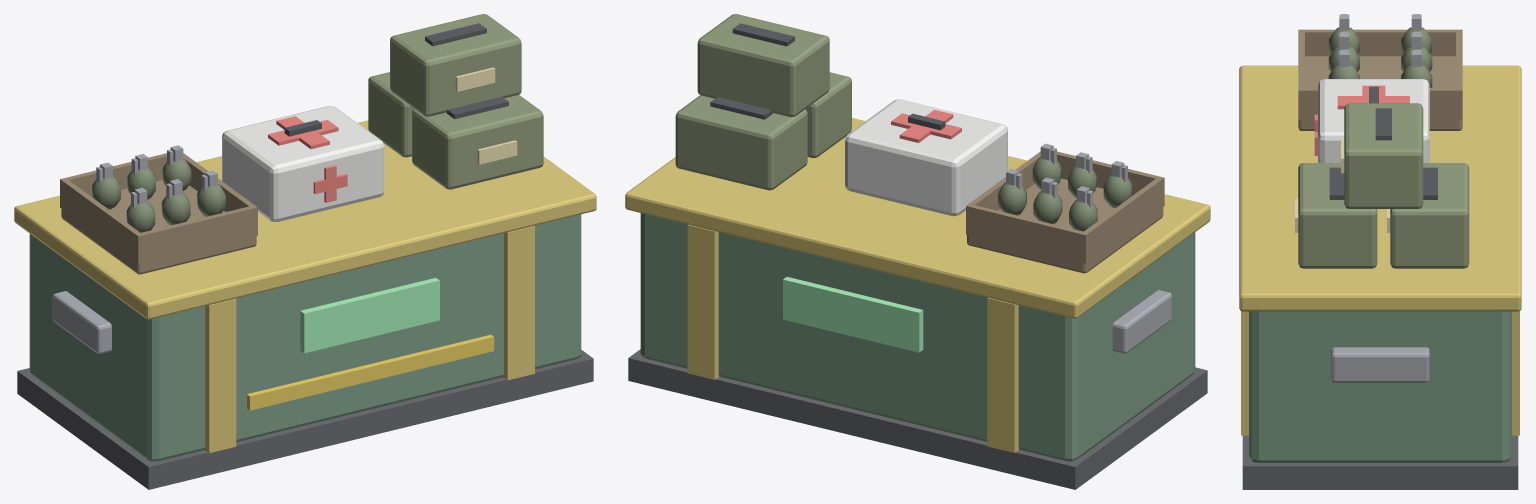
Rendered from supply_cache.fbx.
3 renders of one model, left to right at view 1: azimuth 30°, elevation 25°; view 2: azimuth 150°, elevation 25°; view 3: azimuth 270°, elevation 25°, orthographic. The views are drawn at different scales.
Visible parts, largest first — view 1: supply_cache; view 2: supply_cache; view 3: supply_cache.
Part boxes in pixels (x1=…): supply_cache: x1=14, y1=14, x2=596, y2=489; supply_cache: x1=625, y1=14, x2=1210, y2=489; supply_cache: x1=1239, y1=14, x2=1521, y2=489.
Size of the model in its own units: 1.7 by 1.12 by 0.86.
